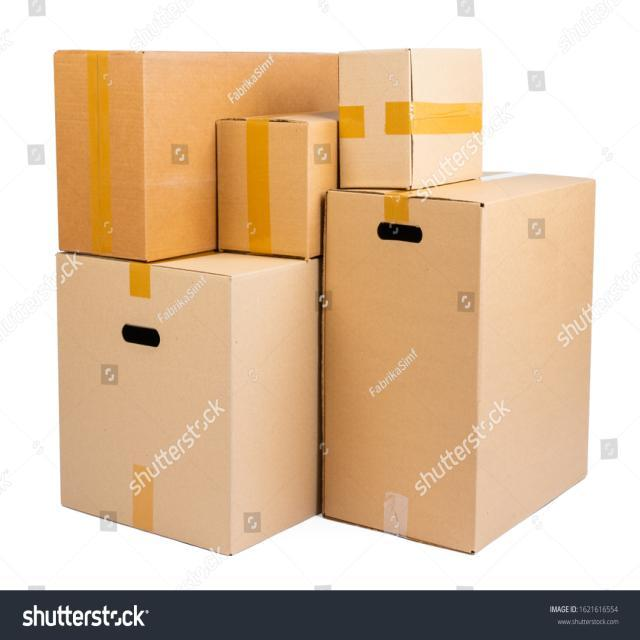BoxFace: (322, 192, 482, 554), (56, 252, 234, 557), (54, 49, 146, 262), (218, 118, 310, 260), (339, 49, 414, 187)
